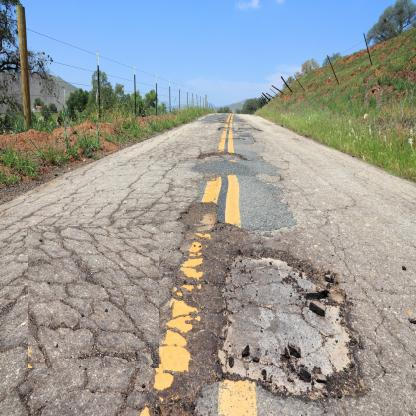crack: (28, 226, 160, 369)
pothole: (197, 232, 378, 410), (171, 187, 228, 248)
